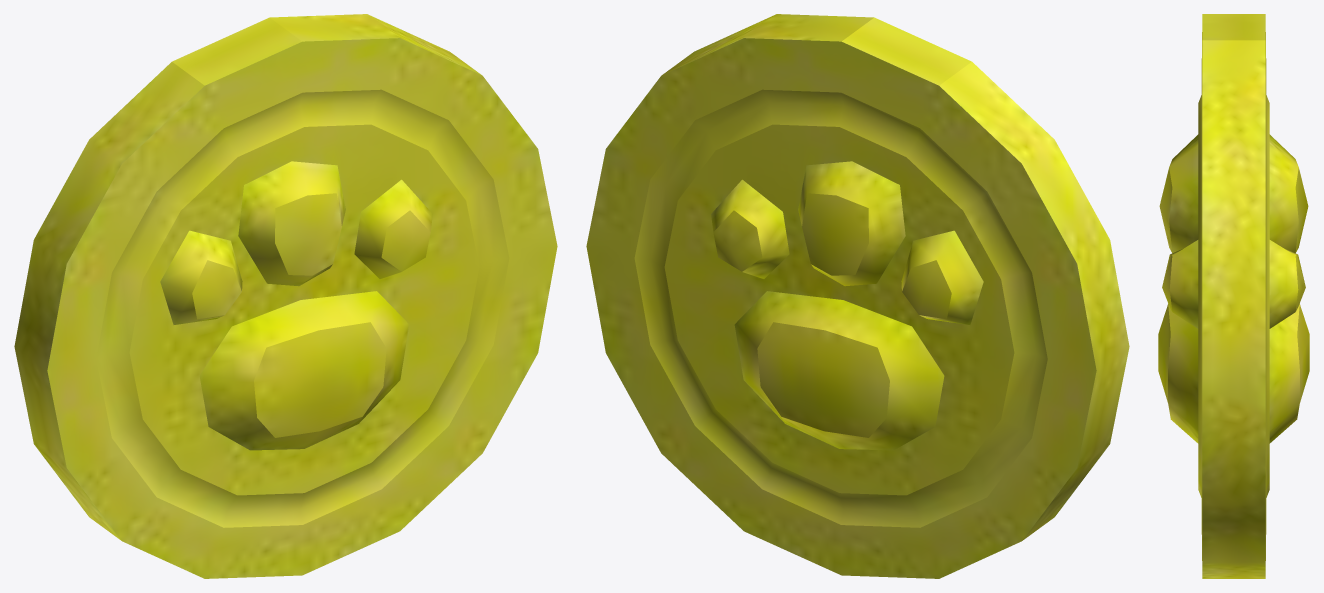
File: token.fbx
The picture shows the model from 3 angles, left to right: view 1: azimuth 30°, elevation 25°; view 2: azimuth 150°, elevation 25°; view 3: azimuth 270°, elevation 25°; orthographic projection. The views are drawn at different scales.
Parts seen in each view (by area): view 1: pSphere2; view 2: pSphere2; view 3: pSphere2.
Boxes of the visible parts, bbox=[...] form: pSphere2: bbox=[14, 14, 557, 578]; pSphere2: bbox=[586, 14, 1129, 578]; pSphere2: bbox=[1158, 14, 1309, 578].
Size of the model in its own units: 0.3457 by 0.3457 by 0.0925.
1 material, 1 textured.
